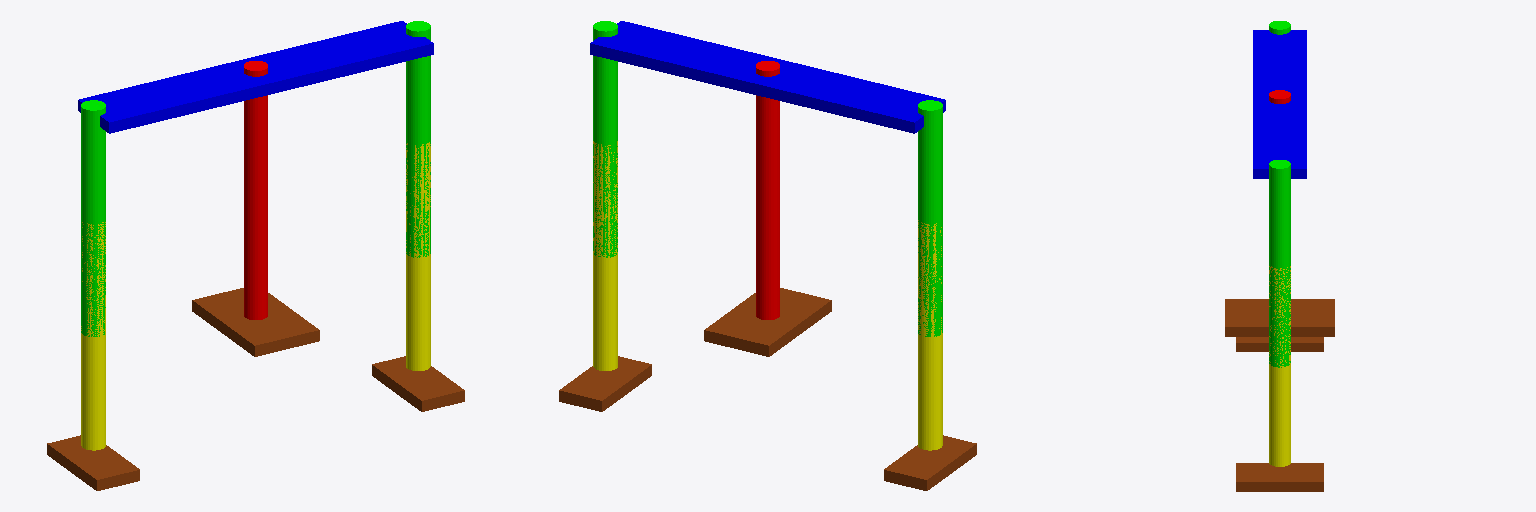
The robot description file, URDF, robot "tripedal_robot":
<?xml version="1.0" ?>
<robot name="tripedal_robot">

  <!-- Base link -->
  <link name="base_link">
    <inertial>
      <origin xyz="0 0 0" rpy="0 0 0"/>
      <mass value="0.05"/>
      <inertia ixx="0.1" ixy="0" ixz="0" iyy="0.1" iyz="0" izz="0.1"/>
    </inertial>
    <collision>
      <geometry>
        <box size="0.6 0.1 0.02"/>
      </geometry>
    </collision>
    <visual>
      <origin xyz="0 0 0.18" rpy="0 0 0"/>
      <geometry>
        <box size="0.6 0.1 0.02"/>
      </geometry>
      <material name="blue"/>
    </visual>
  </link>

  <!-- Define materials -->
  <material name="blue">
    <color rgba="0 0 1 1"/>
  </material>
  <material name="green">
    <color rgba="0 1 0 1"/>
  </material>
  <material name="yellow">
    <color rgba="1 1 0 1"/>
  </material>
  <material name="red">
    <color rgba="1 0 0 1"/>
  </material>
  <material name="brown">
    <color rgba="0.6 0.3 0.1 1"/>
  </material>

  <!-- Outer Left Leg -->
  <link name="left_leg_upper">
    <inertial>
      <origin xyz="0 0 0" rpy="0 0 0"/>
      <mass value="0.3"/>
      <inertia ixx="0.005" ixy="0" ixz="0.005" iyy="0.005" iyz="0" izz="0.005"/>
    </inertial>
    <collision>
      <geometry>
        <cylinder radius="0.02" length="0.4"/>
      </geometry>
    </collision>
    <visual>
      <geometry>
        <cylinder radius="0.02" length="0.4"/>
      </geometry>
      <material name="green"/>
    </visual>
  </link>

  <link name="left_leg_lower">
    <inertial>
      <origin xyz="0 0 0.2" rpy="0 0 0"/> <!-- Adjusted to position the lower leg relative to upper leg -->
      <mass value="0.3"/>
      <inertia ixx="0.005" ixy="0" ixz="0.005" iyy="0.005" iyz="0" izz="0.005"/>
    </inertial>
    <collision>
      <geometry>
        <cylinder radius="0.02" length="0.4"/>
      </geometry>
    </collision>
    <visual>
      <geometry>
        <cylinder radius="0.02" length="0.4"/>
      </geometry>
      <material name="yellow"/>
    </visual>
  </link>

  <joint name="left_knee" type="revolute">
    <parent link="left_leg_upper"/>
    <child link="left_leg_lower"/>
    <origin xyz="0 0 -0.2" rpy="0 0 0"/> <!-- Ensure this aligns with the lower leg's top -->
    <axis xyz="1 0 0"/>
    <limit lower="-1.57" upper="1.57" effort="10" velocity="10"/>
  </joint>

  <!-- Outer Right Leg -->
  <link name="right_leg_upper">
    <inertial>
      <origin xyz="0 0 0" rpy="0 0 0"/>
      <mass value="0.3"/>
      <inertia ixx="0.005" ixy="0" ixz="0.005" iyy="0.005" iyz="0" izz="0.005"/>
    </inertial>
    <collision>
      <geometry>
        <cylinder radius="0.02" length="0.4"/>
      </geometry>
    </collision>
    <visual>
      <geometry>
        <cylinder radius="0.02" length="0.4"/>
      </geometry>
      <material name="green"/>
    </visual>
  </link>

  <link name="right_leg_lower">
    <inertial>
      <origin xyz="0 0 0.2" rpy="0 0 0"/> <!-- Adjusted to position the lower leg relative to upper leg -->
      <mass value="0.3"/>
      <inertia ixx="0.005" ixy="0" ixz="0.005" iyy="0.005" iyz="0" izz="0.005"/>
    </inertial>
    <collision>
      <geometry>
        <cylinder radius="0.02" length="0.4"/>
      </geometry>
    </collision>
    <visual>
      <geometry>
        <cylinder radius="0.02" length="0.4"/>
      </geometry>
      <material name="yellow"/>
    </visual>
  </link>

  <joint name="right_knee" type="revolute">
    <parent link="right_leg_upper"/>
    <child link="right_leg_lower"/>
    <origin xyz="0 0 -0.2" rpy="0 0 0"/> <!-- Ensure this aligns with the lower leg's top -->
    <axis xyz="1 0 0"/>
    <limit lower="-2" upper="2" effort="10" velocity="10"/>
  </joint>


<!-- Center Leg Part 1 -->
<link name="center_leg_part1">
  <inertial>
    <origin xyz="0 0 0" rpy="0 0 0"/>
    <mass value="0.3"/>
    <inertia ixx="0.0025" ixy="0" ixz="0" iyy="0.0025" iyz="0" izz="0.0025"/>
  </inertial>
  <collision>
    <geometry>
      <cylinder radius="0.02" length="0.1"/>
    </geometry>
  </collision>
  <visual>
    <origin xyz="0 0 -.1" rpy="0 0 0"/>
    <geometry>
      <cylinder radius="0.02" length="0.4"/>
    </geometry>
    <material name="red"/>
  </visual>
</link>

<joint name="center_leg_joint1" type="revolute">
  <parent link="base_link"/>
  <child link="center_leg_part1"/>
  <origin xyz="0 0 0.1" rpy="0 0 0"/>
  <axis xyz="1 0 0"/>
  <limit lower="-1.57" upper="1.57" effort="10" velocity="10"/>
</joint>

<!-- Center Leg Part 2 -->
<link name="center_leg_part2">
  <inertial>
    <origin xyz="0 0 -0.5" rpy="0 0 0"/>
    <mass value="0.5"/>
    <inertia ixx="0.0025" ixy="0" ixz="0.0025" iyy="0.0025" iyz="0" izz="0.0025"/>
  </inertial>
  <collision>
    <geometry>
      <cylinder radius="0.02" length="0.4"/>
    </geometry>
  </collision>
  <visual>
    <geometry>
      <cylinder radius="0.02" length="0.4"/>
    </geometry>
    <material name="red"/>
  </visual>
</link>

<joint name="center_leg_joint2" type="prismatic">
  <parent link="center_leg_part1"/>
  <child link="center_leg_part2"/>
  <origin xyz="0 0 -0.15" rpy="0 0 0"/>
  <axis xyz="0 0 -0.6"/>
  <limit lower="0.0" upper="0.4" effort="10" velocity="10"/>
</joint>

  <link name="center_foot">
    <inertial>
      <origin xyz="0 0 0" rpy="0 0 0"/>
      <mass value="0.5"/>
      <inertia ixx="0.005" ixy="0" ixz="0" iyy="0.005" iyz="0" izz="0.005"/>
    </inertial>
    <collision>
      <geometry>
        <box size="0.12 0.2 0.02"/>
      </geometry>
          <surface>
      <friction>
        <ode>
          <mu>2.0</mu>
          <mu2>2.0</mu2>
        </ode>
      </friction>
      <rolling_friction>
        <ode>
"          <slip1>0.04</slip1>
"          <slip2>0.04</slip2>
        </ode>
      </rolling_friction>
    </surface>
    </collision>
    <visual>
      <geometry>
        <box size="0.12 0.2 0.02"/>
      </geometry>
      <material name="brown"/>
    </visual>
  </link>

  <!-- Feet -->
  <link name="left_foot">
    <inertial>
      <origin xyz="0 0 0" rpy="0 0 0"/>
      <mass value="0.3"/>
      <inertia ixx="0.005" ixy="0" ixz="0" iyy="0.005" iyz="0" izz="0.005"/>
    </inertial>
    <collision>
      <geometry>
        <box size="0.08 0.16 0.02"/>
      </geometry>
          <surface>
      <friction>
        <ode>
          <mu>2.0</mu>
          <mu2>2.0</mu2>
        </ode>
      </friction>
      <rolling_friction>
        <ode>
"          <slip1>0.04</slip1>
"          <slip2>0.04</slip2>
        </ode>
      </rolling_friction>
    </surface>
    </collision>
    <visual>
      <geometry>
        <box size="0.08 0.16 0.02"/>
      </geometry>
      <material name="brown"/>
    </visual>
  </link>

  <link name="right_foot">
    <inertial>
      <origin xyz="0 0 0" rpy="0 0 0"/>
      <mass value="0.3"/>
      <inertia ixx="0.005" ixy="0" ixz="0" iyy="0.005" iyz="0" izz="0.005"/>
    </inertial>
    <collision>
      <geometry>
        <box size="0.08 0.16 0.02"/>
      </geometry>
          <surface>
      <friction>
        <ode>
          <mu>2.0</mu>
          <mu2>2.0</mu2>
        </ode>
      </friction>
      <rolling_friction>
        <ode>
"          <slip1>0.04</slip1>
"          <slip2>0.04</slip2>
        </ode>
      </rolling_friction>
    </surface>
    </collision>
    <visual>
      <geometry>
        <box size="0.08 0.16 0.02"/>
      </geometry>
      <material name="brown"/>
    </visual>
  </link>

  <!-- Joints connecting legs to base -->
  <joint name="left_hip" type="revolute">
    <parent link="base_link"/>
    <child link="left_leg_upper"/>
    <origin xyz="-0.3 0 0" rpy="0 0 0"/>
    <axis xyz="1 0 0"/>
    <limit lower="-1.57" upper="1.57" effort="10" velocity="10"/>
  </joint>

  <joint name="right_hip" type="revolute">
    <parent link="base_link"/>
    <child link="right_leg_upper"/>
    <origin xyz="0.3 0 0" rpy="0 0 0"/>
    <axis xyz="1 0 0"/>
    <limit lower="-1.57" upper="1.57" effort="10" velocity="10"/>
  </joint>

  <!-- Feet joints -->
  <joint name="left_foot_joint" type="revolute">
    <parent link="left_leg_lower"/>
    <child link="left_foot"/>
    <origin xyz="0 0 -0.23" rpy="0 0 0"/>
    <axis xyz="1 0 -0.1"/>
    <limit lower="-1.57" upper="1.57" effort="10" velocity="10"/>
  </joint>

  <joint name="right_foot_joint" type="revolute">
    <parent link="right_leg_lower"/>
    <child link="right_foot"/>
    <origin xyz="0 0 -0.23" rpy="0 0 0"/>
    <axis xyz="1 0 -0.1"/>
    <limit lower="-1.57" upper="1.57" effort="10" velocity="10"/>
  </joint>

<joint name="center_foot_joint" type="revolute">
  <parent link="center_leg_part2"/>
  <child link="center_foot"/>
  <origin xyz="0 0 -0.2" rpy="0 0 0"/>
  <axis xyz="1 0 0"/>
  <limit lower="-1.57" upper="1.57" effort="10" velocity="10"/>
</joint>

</robot>

--- What the picture shows (computed from the rendered views, not written in the file) ---
3 views of the same robot in one strip: view 1: azimuth 30°, elevation 25°; view 2: azimuth 150°, elevation 25°; view 3: azimuth 270°, elevation 25° (orthographic).
Model tripedal_robot with 10 links and 9 joints (8 revolute, 1 prismatic), rooted at base_link, posed all joints at 0.
Links seen in each view (by area): view 1: base_link, left_leg_upper, center_foot, right_leg_upper, right_leg_lower, center_leg_part1, left_leg_lower, right_foot, left_foot, center_leg_part2; view 2: base_link, left_leg_upper, center_foot, right_leg_lower, right_leg_upper, left_leg_lower, center_leg_part1, right_foot, left_foot, center_leg_part2; view 3: base_link, right_leg_upper, center_foot, right_leg_lower, right_foot, left_foot.
Boxes of the visible links, x1,y1,x2,y2 form: base_link: (78, 21, 433, 133); left_leg_upper: (81, 100, 105, 336); center_foot: (192, 288, 319, 356); right_leg_upper: (406, 21, 430, 257); right_leg_lower: (406, 142, 430, 370); center_leg_part1: (244, 61, 267, 297); left_leg_lower: (81, 222, 105, 450); right_foot: (372, 356, 464, 411); left_foot: (47, 435, 139, 490); center_leg_part2: (244, 97, 267, 319); base_link: (590, 21, 945, 133); left_leg_upper: (918, 100, 942, 336); center_foot: (704, 288, 831, 356); right_leg_lower: (593, 141, 617, 370); right_leg_upper: (593, 21, 617, 257); left_leg_lower: (918, 220, 942, 450); center_leg_part1: (756, 61, 779, 297); right_foot: (559, 356, 651, 411); left_foot: (884, 435, 976, 490); center_leg_part2: (756, 96, 779, 319); base_link: (1253, 30, 1306, 178); right_leg_upper: (1269, 160, 1290, 367); center_foot: (1225, 299, 1334, 336); right_leg_lower: (1269, 266, 1290, 466); right_foot: (1236, 463, 1323, 491); left_foot: (1236, 337, 1323, 351).
Size in the robot's own frame: 0.68 by 0.2 by 0.64 metres.
Geometry: primitives only (box / cylinder / sphere), no mesh files.